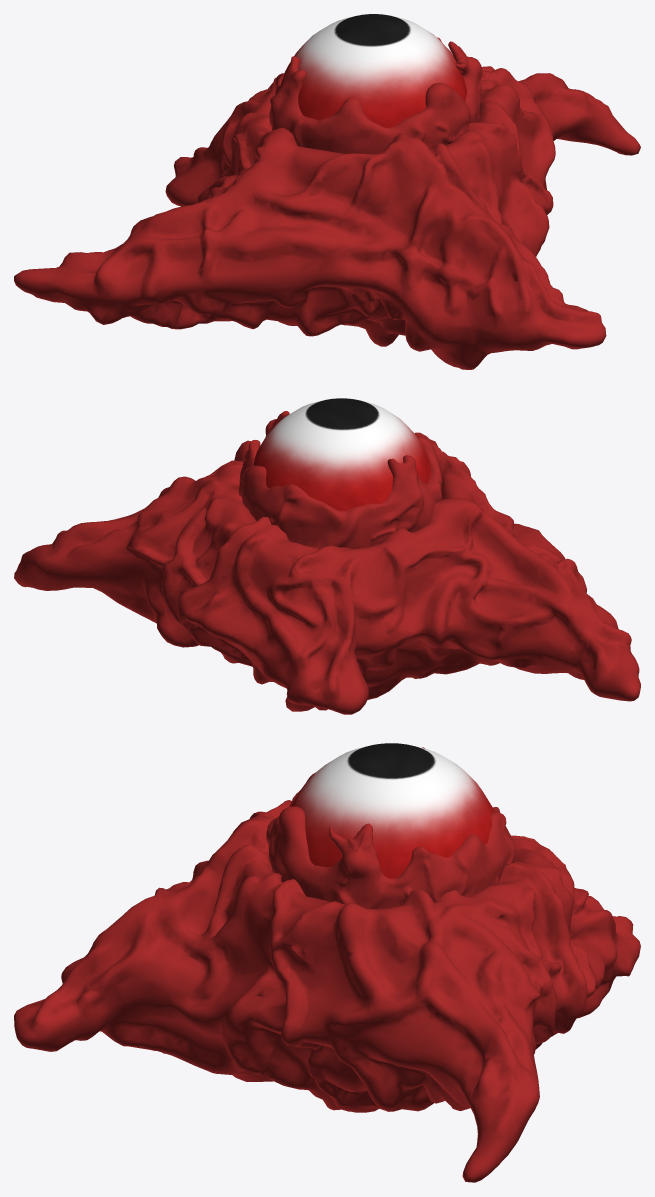
File: RedBlob.glb
3 renders of one model, top to bottom at view 1: azimuth 30°, elevation 25°; view 2: azimuth 150°, elevation 25°; view 3: azimuth 270°, elevation 25°, orthographic. The views are drawn at different scales.
Visible parts, largest first — view 1: Eye_FleshMound, Eyeball, Eye; view 2: Eye_FleshMound, Eyeball, Eye; view 3: Eye_FleshMound, Eyeball, Eye.
Part boxes in pixels (x1,y1,x2,y2): Eye_FleshMound: (14,66,640,369); Eyeball: (284,14,466,127); Eye: (269,37,482,154); Eye_FleshMound: (14,432,640,714); Eyeball: (253,398,431,511); Eye: (238,411,442,549); Eye_FleshMound: (14,800,640,1182); Eyeball: (290,743,493,878); Eye: (266,747,515,908).
Size of the model in its own units: 1.38 by 0.6481 by 1.03.
2 materials, 1 textured.
